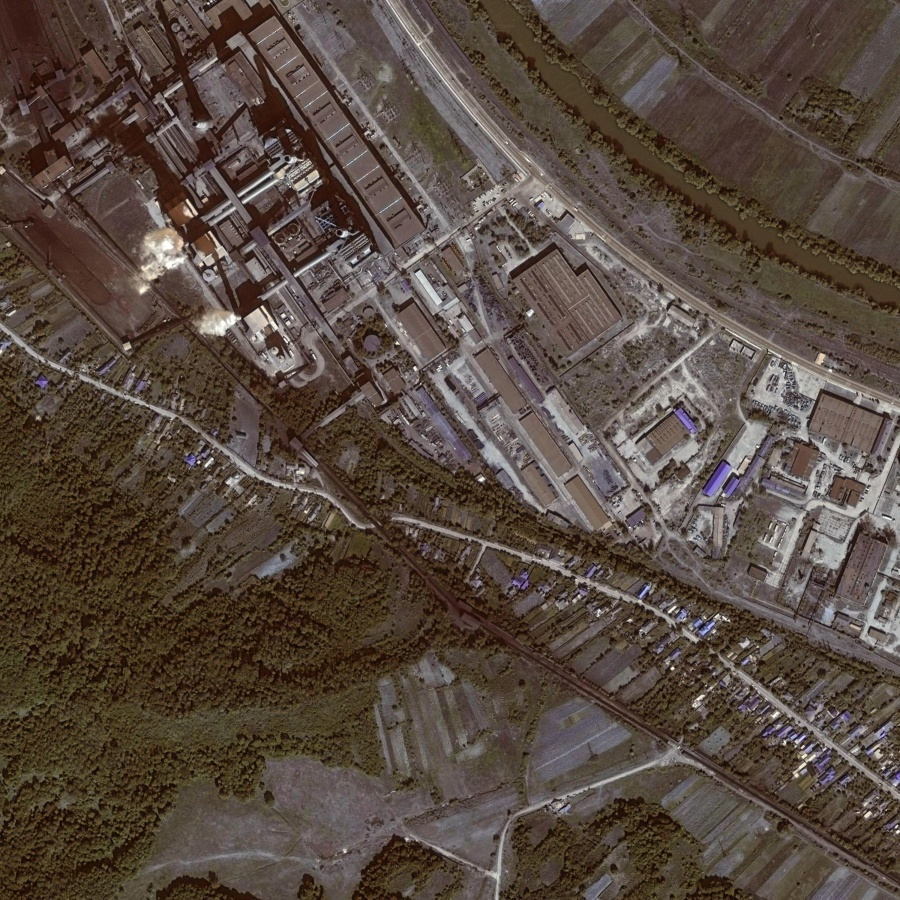PowerPlant: (24, 136, 239, 365)
